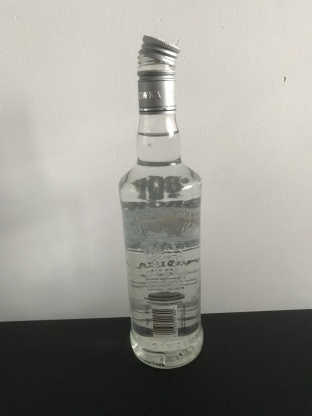nakretka: (135, 32, 181, 114)
